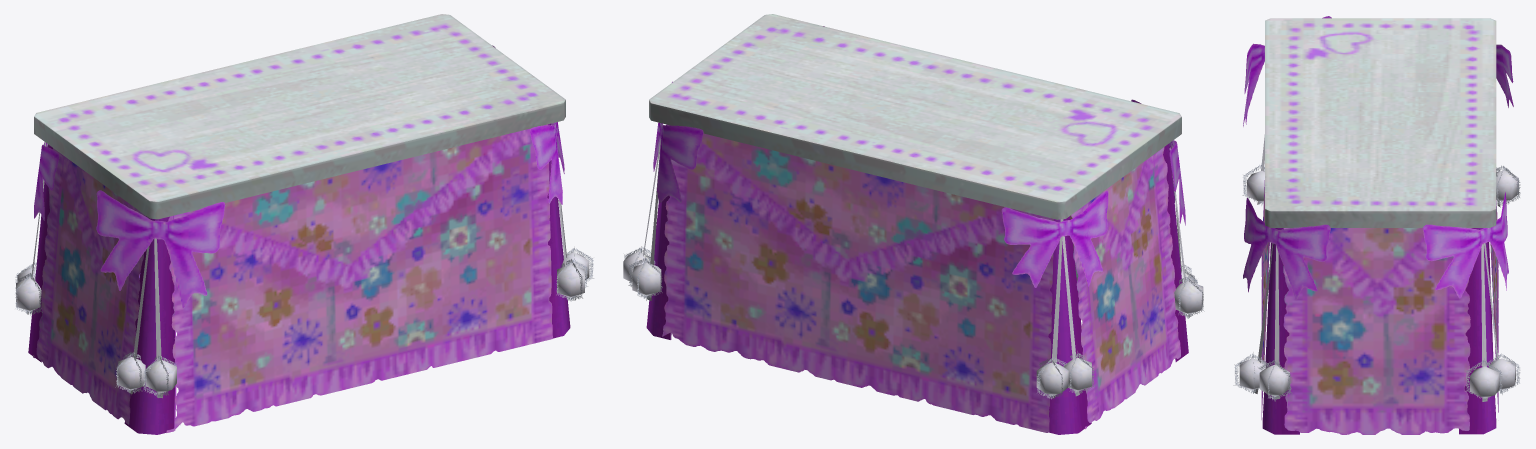
The model's file is furni_0200011_01.FBX.
The picture shows the model from 3 angles, left to right: view 1: azimuth 30°, elevation 25°; view 2: azimuth 150°, elevation 25°; view 3: azimuth 270°, elevation 25°; orthographic projection. The views are drawn at different scales.
Visible parts, largest first — view 1: furni_0200011_01; view 2: furni_0200011_01; view 3: furni_0200011_01.
Boxes of the visible parts, x1,y1,x2,y2 form: furni_0200011_01: (15, 14, 594, 434); furni_0200011_01: (623, 14, 1204, 434); furni_0200011_01: (1233, 16, 1520, 434).
Size of the model in its own units: 172 by 80.05 by 94.92.
